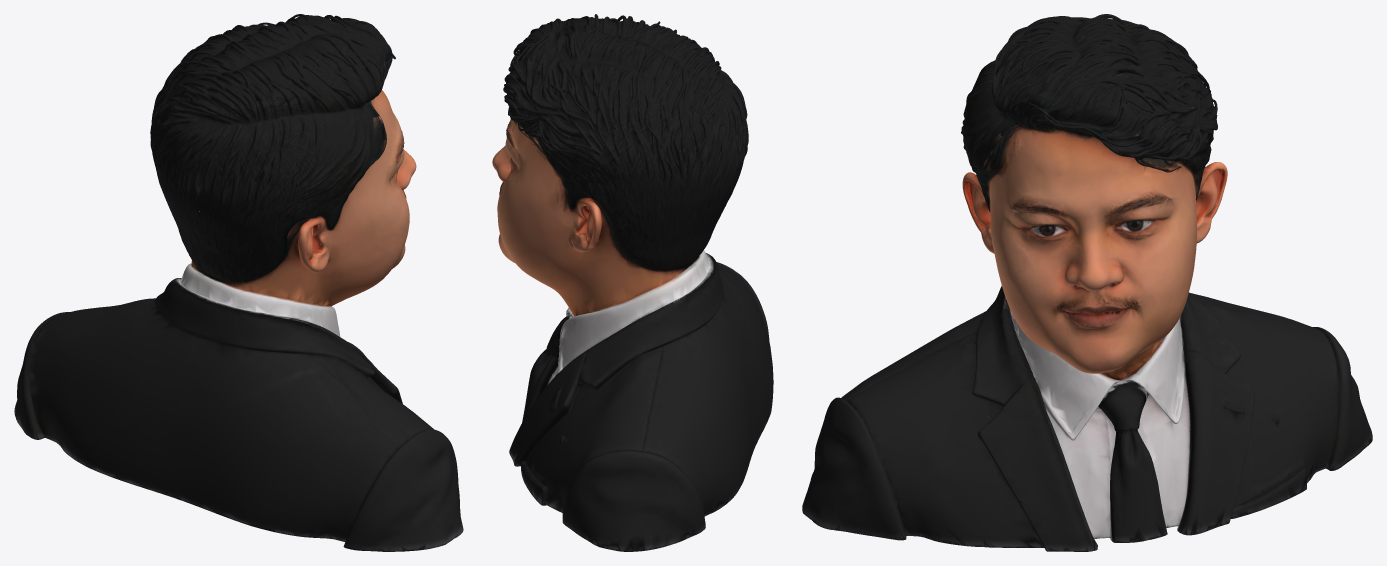
Rendered from showi.glb.
3 views of the same model, side by side, from view 1: azimuth 30°, elevation 25°; view 2: azimuth 150°, elevation 25°; view 3: azimuth 270°, elevation 25° (orthographic). The views are drawn at different scales.
Parts seen in each view (by area): view 1: tripo_node_c0d2111a-18a8-4cd7-ae74-9853c1baedfb; view 2: tripo_node_c0d2111a-18a8-4cd7-ae74-9853c1baedfb; view 3: tripo_node_c0d2111a-18a8-4cd7-ae74-9853c1baedfb.
Part boxes in pixels (x1=…): tripo_node_c0d2111a-18a8-4cd7-ae74-9853c1baedfb: x1=14, y1=14, x2=463, y2=551; tripo_node_c0d2111a-18a8-4cd7-ae74-9853c1baedfb: x1=492, y1=14, x2=773, y2=551; tripo_node_c0d2111a-18a8-4cd7-ae74-9853c1baedfb: x1=802, y1=14, x2=1372, y2=551.
Bounding box in the file's own units: 0.6595 × 0.8818 × 0.9788.
Materials: 1 (1 with a texture image).
